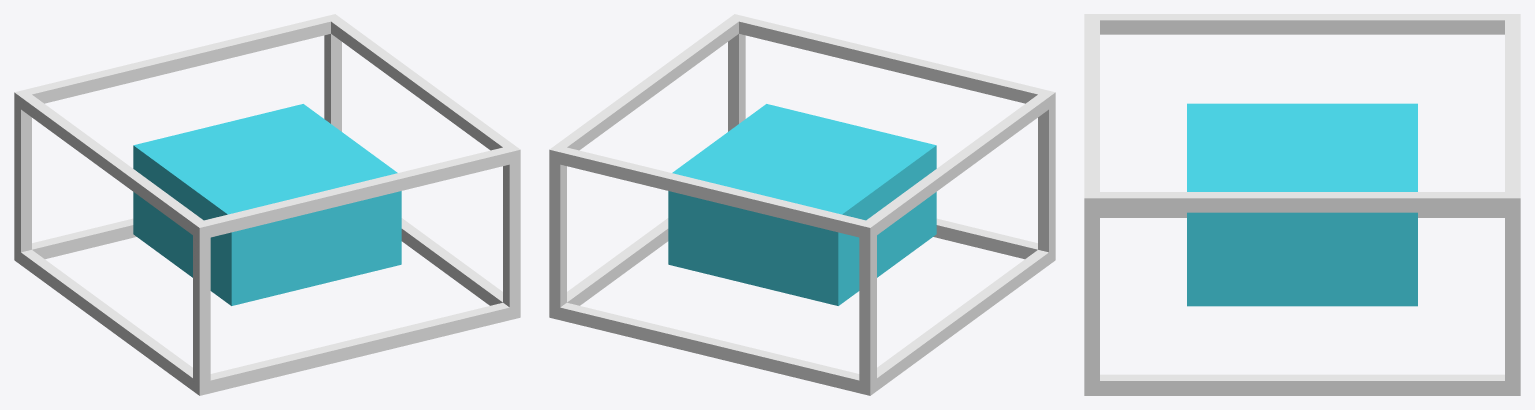
Rendered from energon.glb.
3 views of the same model, side by side, from view 1: azimuth 30°, elevation 25°; view 2: azimuth 150°, elevation 25°; view 3: azimuth 270°, elevation 25° (orthographic). The views are drawn at different scales.
Parts seen in each view (by area): view 1: grid, core; view 2: grid, core; view 3: core, grid.
Part boxes in pixels (box(x1,y1,x2,y2)): grid: box(14, 14, 520, 395); core: box(133, 104, 401, 305); grid: box(549, 14, 1055, 395); core: box(668, 104, 936, 305); core: box(1187, 103, 1417, 306); grid: box(1084, 14, 1520, 395).
Bounding box in the file's own units: 2 × 1 × 2.
